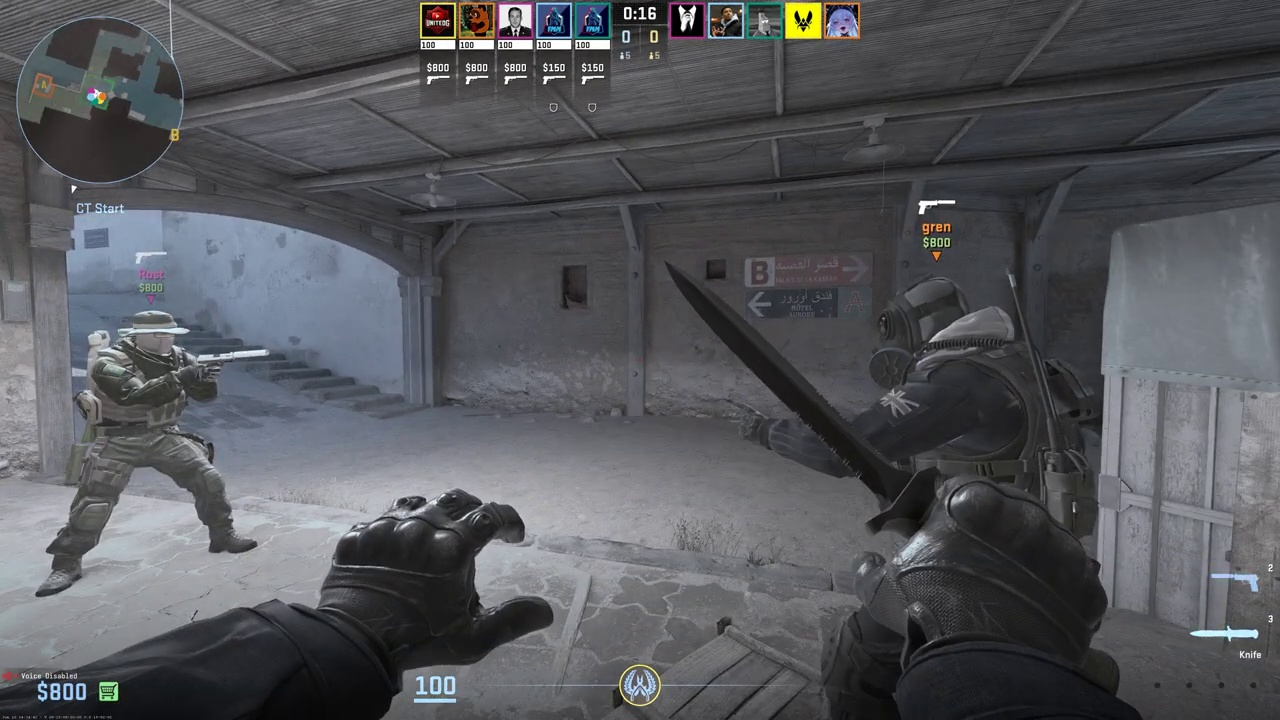CT: (822, 276, 1056, 714), (50, 310, 246, 596)
